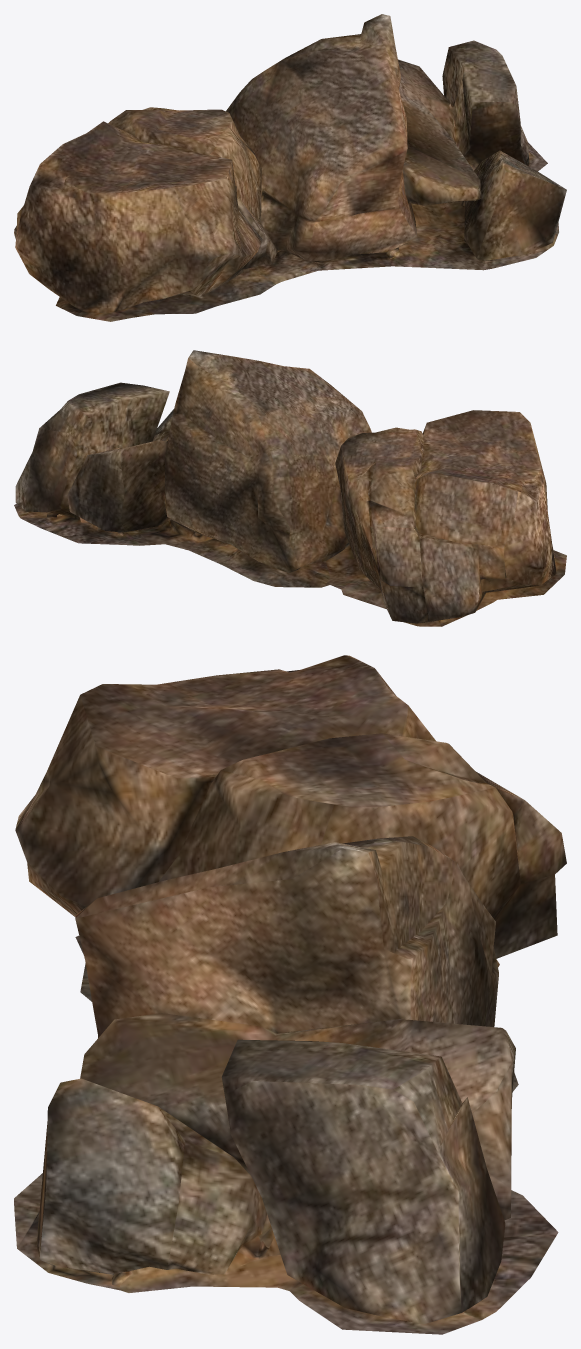
The model's file is namaqualand_boulder_02.lod.glb.
3 renders of one model, top to bottom at view 1: azimuth 30°, elevation 25°; view 2: azimuth 150°, elevation 25°; view 3: azimuth 270°, elevation 25°, orthographic. The views are drawn at different scales.
Parts seen in each view (by area): view 1: boulder_02; view 2: boulder_02; view 3: boulder_02.
Part boxes in pixels (x1,y1,x2,y2): boulder_02: (14,14,566,321); boulder_02: (14,350,566,626); boulder_02: (14,655,566,1334).
Size of the model in its own units: 2.52 by 0.8787 by 1.23.
Materials: 1 (1 with a texture image).
